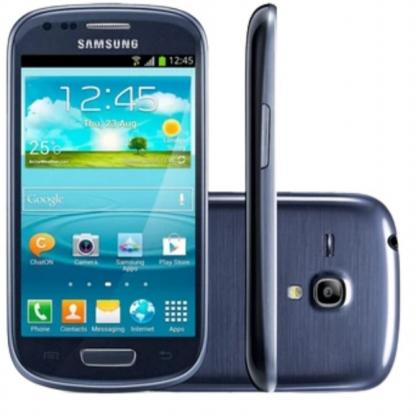SMARTPHONE: (5, 8, 212, 396)
